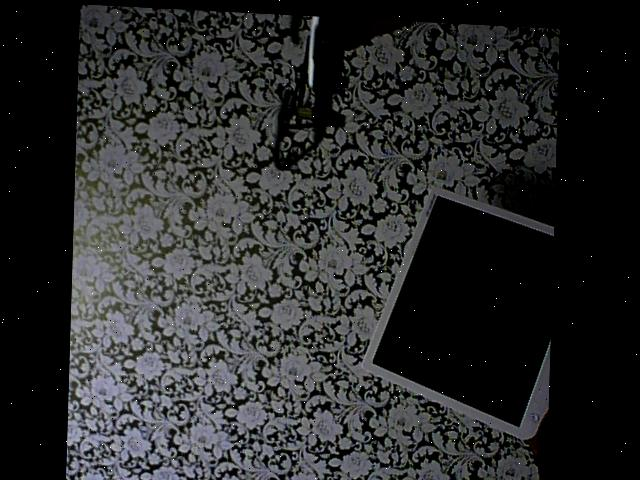drone: (257, 11, 380, 175)
